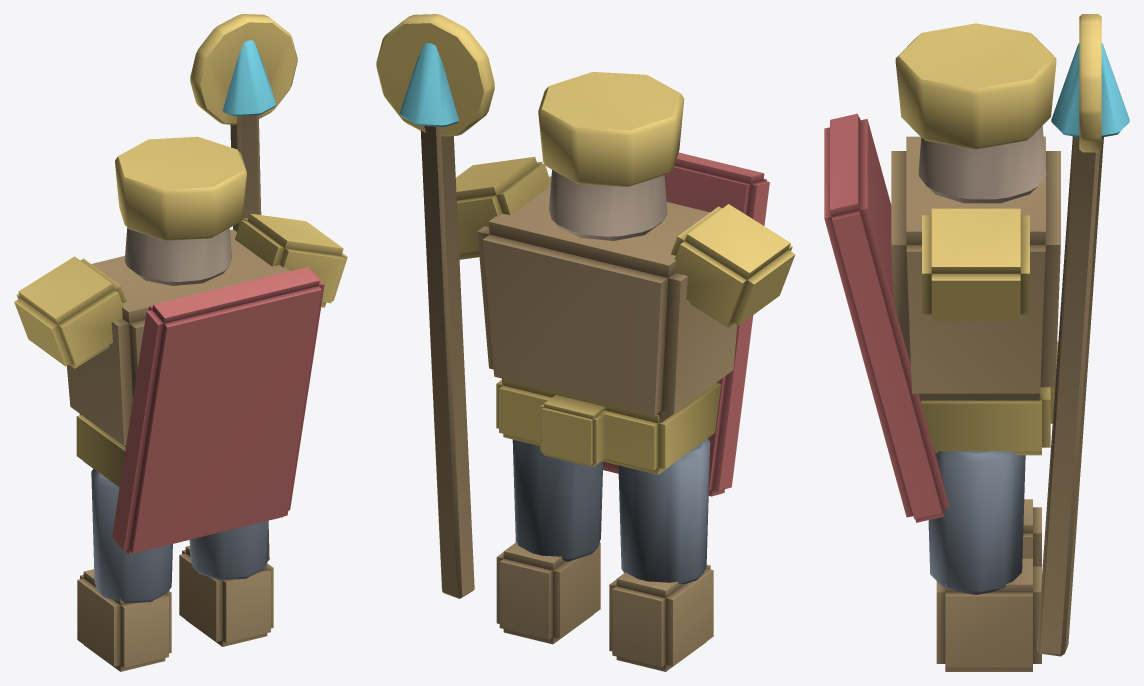
The model's file is field_scholar_hero_lod0.glb.
3 renders of one model, left to right at view 1: azimuth 30°, elevation 25°; view 2: azimuth 150°, elevation 25°; view 3: azimuth 270°, elevation 25°, orthographic. The views are drawn at different scales.
Parts seen in each view (by area): view 1: field_scholar_hero; view 2: field_scholar_hero; view 3: field_scholar_hero.
Boxes of the visible parts, x1=… form: field_scholar_hero: x1=14, y1=14, x2=347, y2=671; field_scholar_hero: x1=376, y1=14, x2=795, y2=671; field_scholar_hero: x1=824, y1=14, x2=1129, y2=671.
Size of the model in its own units: 1.34 by 2.34 by 0.9604.
